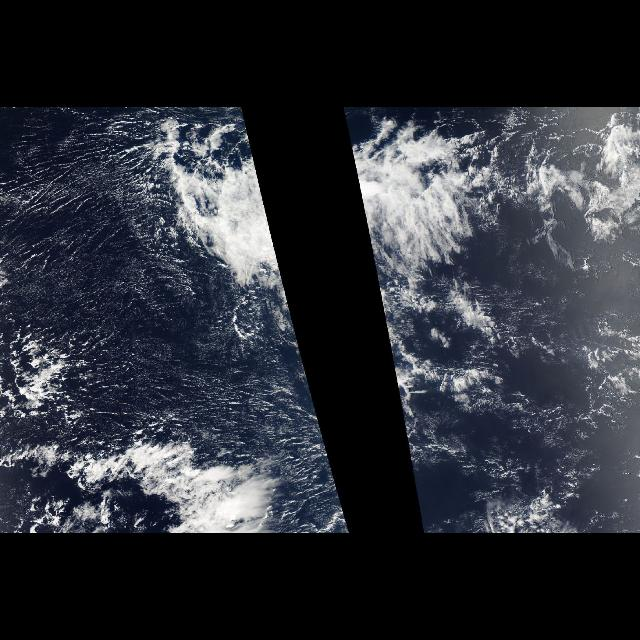Sugar: (1, 112, 322, 462)
